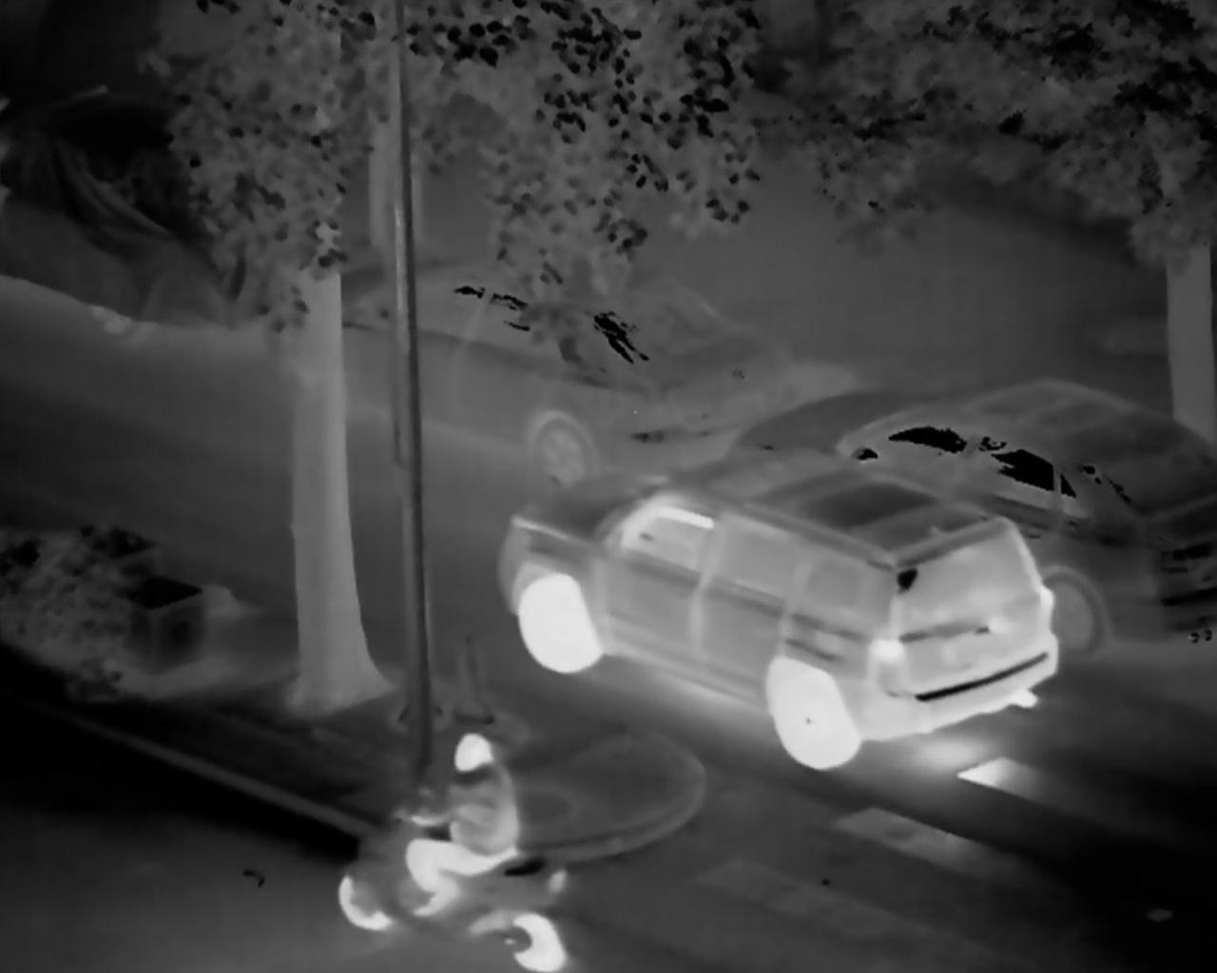person: (396, 735, 522, 926)
